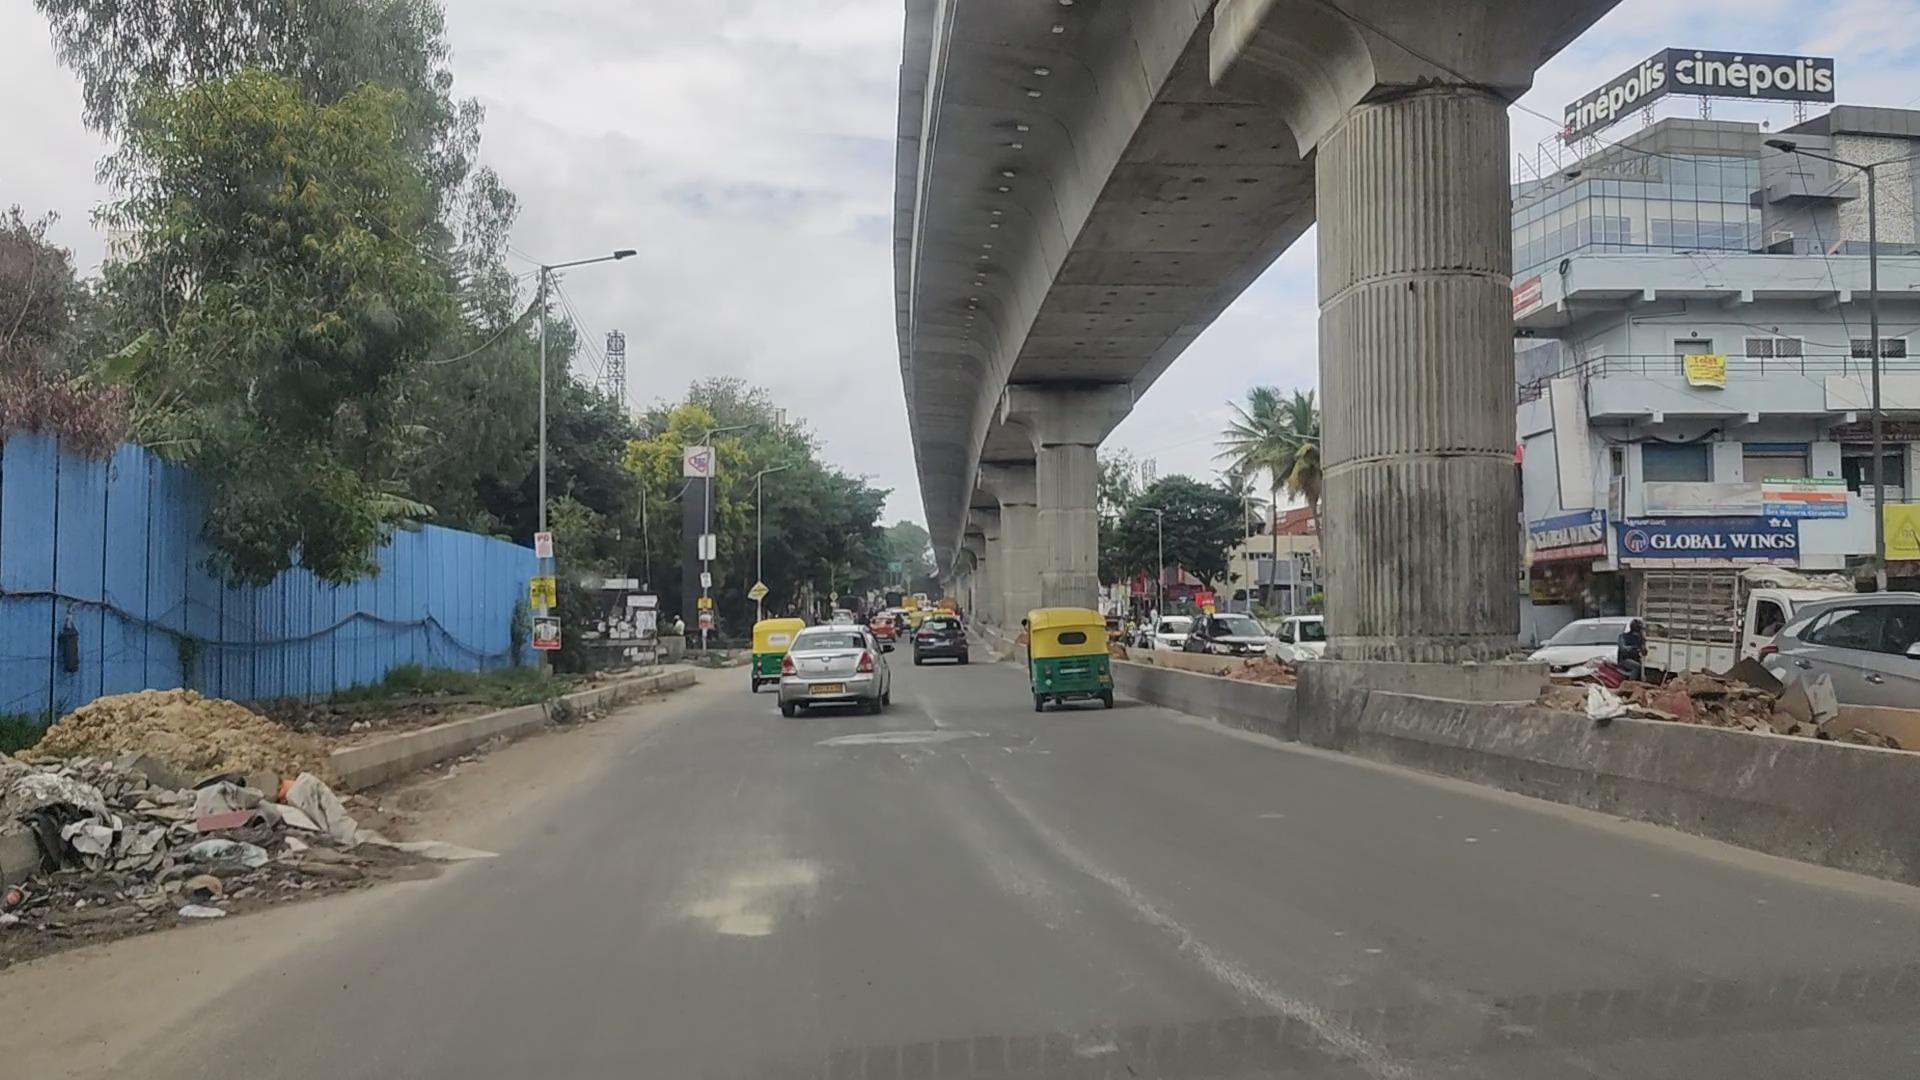LMV: (777, 617, 890, 721), (1019, 605, 1116, 716)
